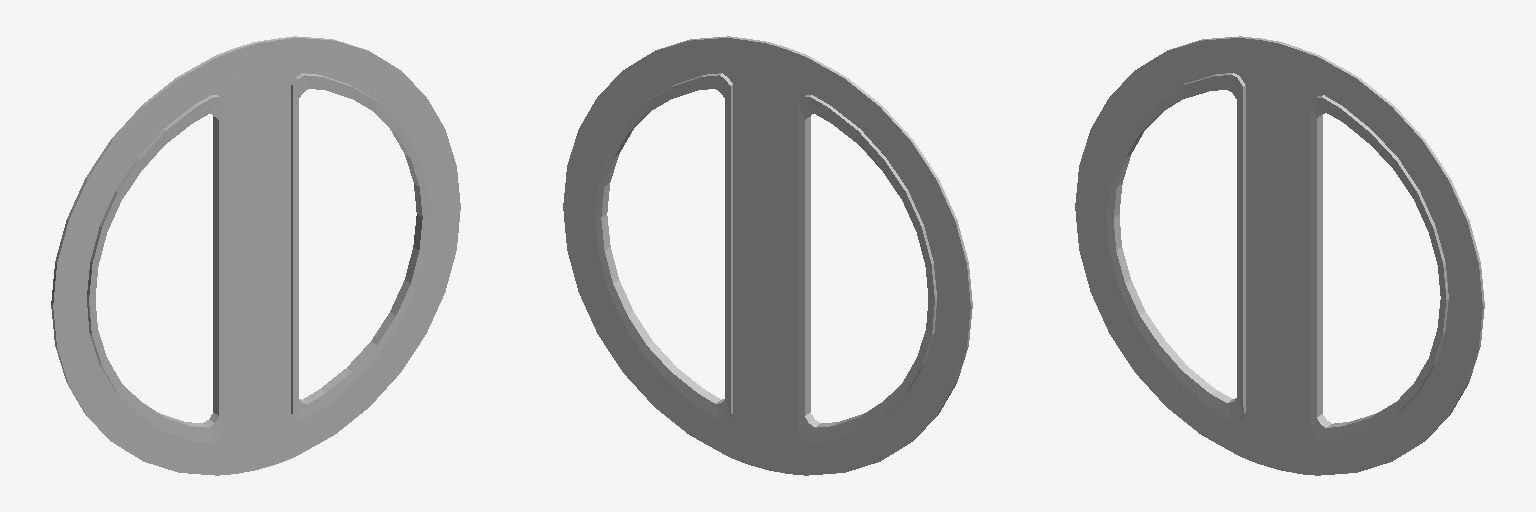
Rendered from SurfaceModel.obj.
3 renders of one model, left to right at view 1: azimuth 30°, elevation 25°; view 2: azimuth 150°, elevation 25°; view 3: azimuth 330°, elevation 25°, orthographic.
Size of the model in its own units: 551 by 551 by 15.47.